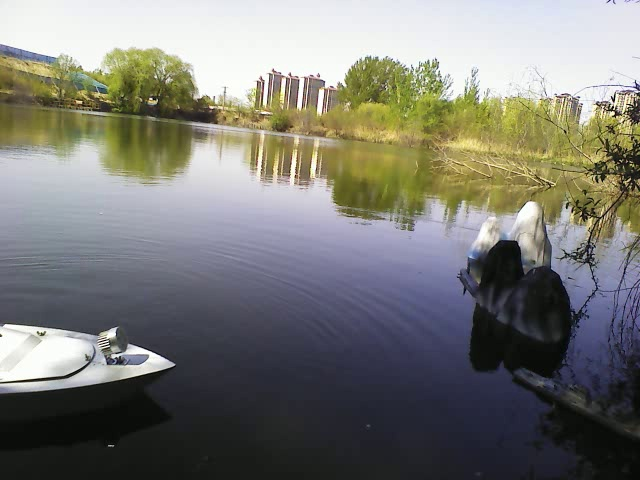boat: (3, 320, 182, 417)
iceberg: (469, 200, 557, 269)
rock: (480, 238, 574, 343)
submarine: (456, 265, 480, 299)
warship: (512, 361, 635, 441)
